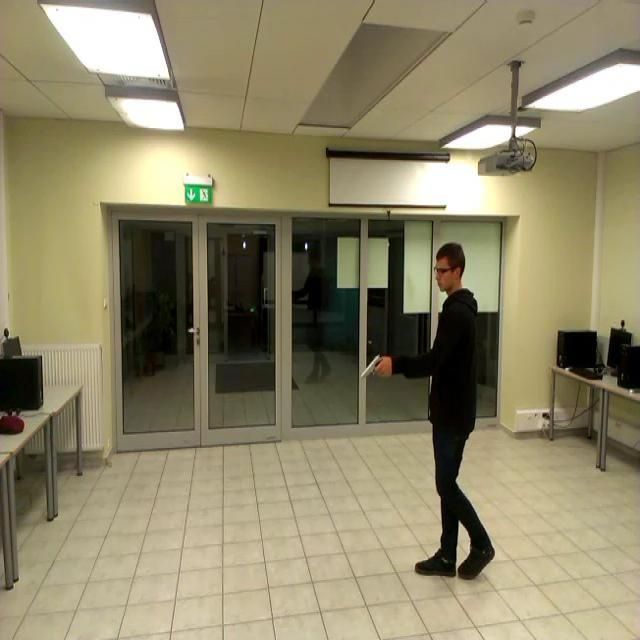weapon: (358, 354, 388, 384)
